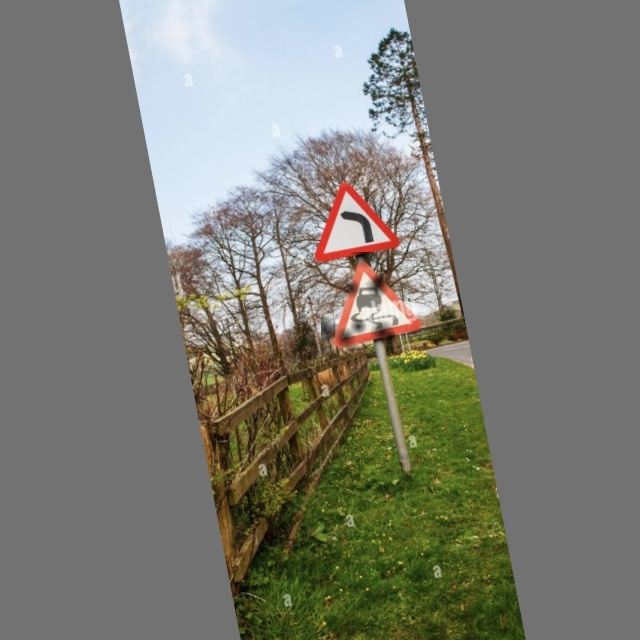Slippery_Road: (321, 252, 422, 351)
